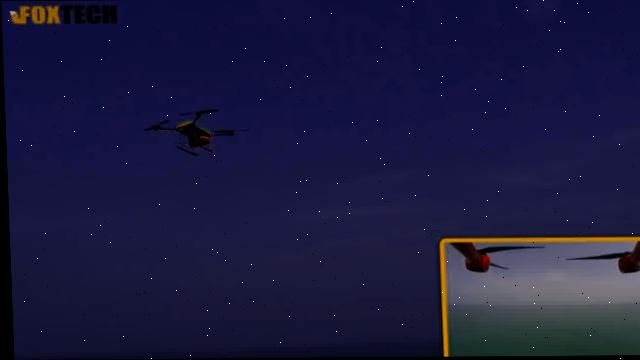drone: (128, 95, 247, 159)
